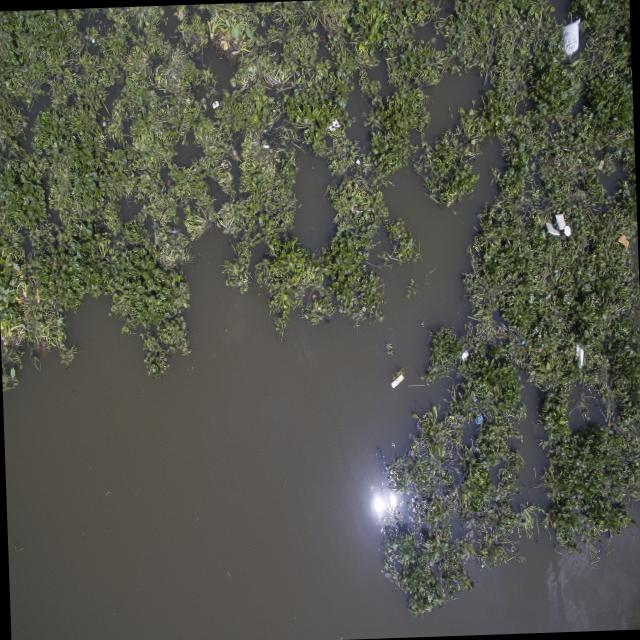Plastic: (558, 18, 582, 56), (544, 222, 560, 238), (461, 350, 468, 360), (212, 100, 218, 108)
